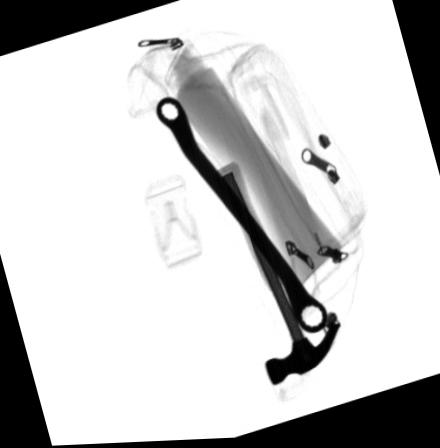Hammer: (213, 161, 343, 387)
Wrench: (155, 95, 329, 337)
